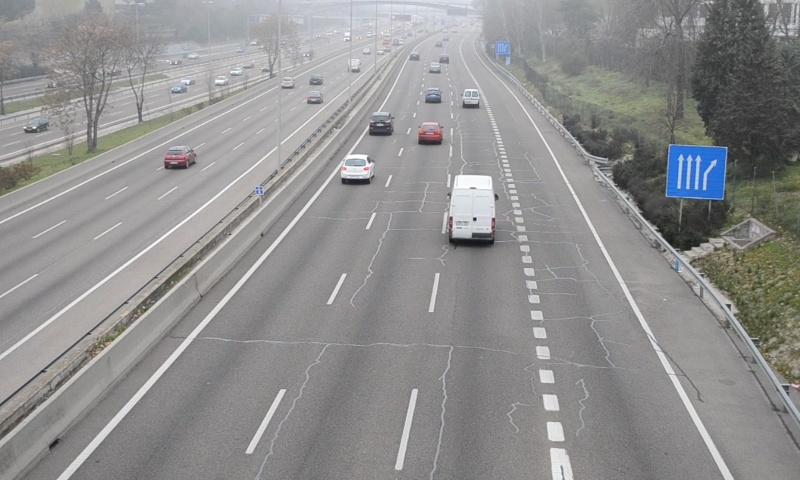car: (339, 155, 374, 182), (368, 112, 394, 136), (418, 122, 442, 146), (424, 86, 442, 104)
van: (448, 174, 497, 244), (462, 88, 481, 108)
